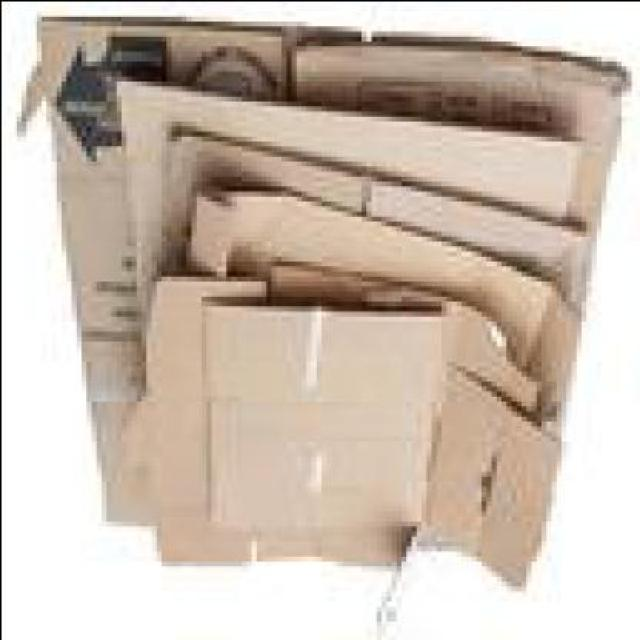CARDBOARD: (15, 20, 620, 460), (95, 195, 576, 534), (100, 80, 580, 365), (150, 129, 590, 400), (135, 279, 530, 570), (190, 310, 550, 595)
